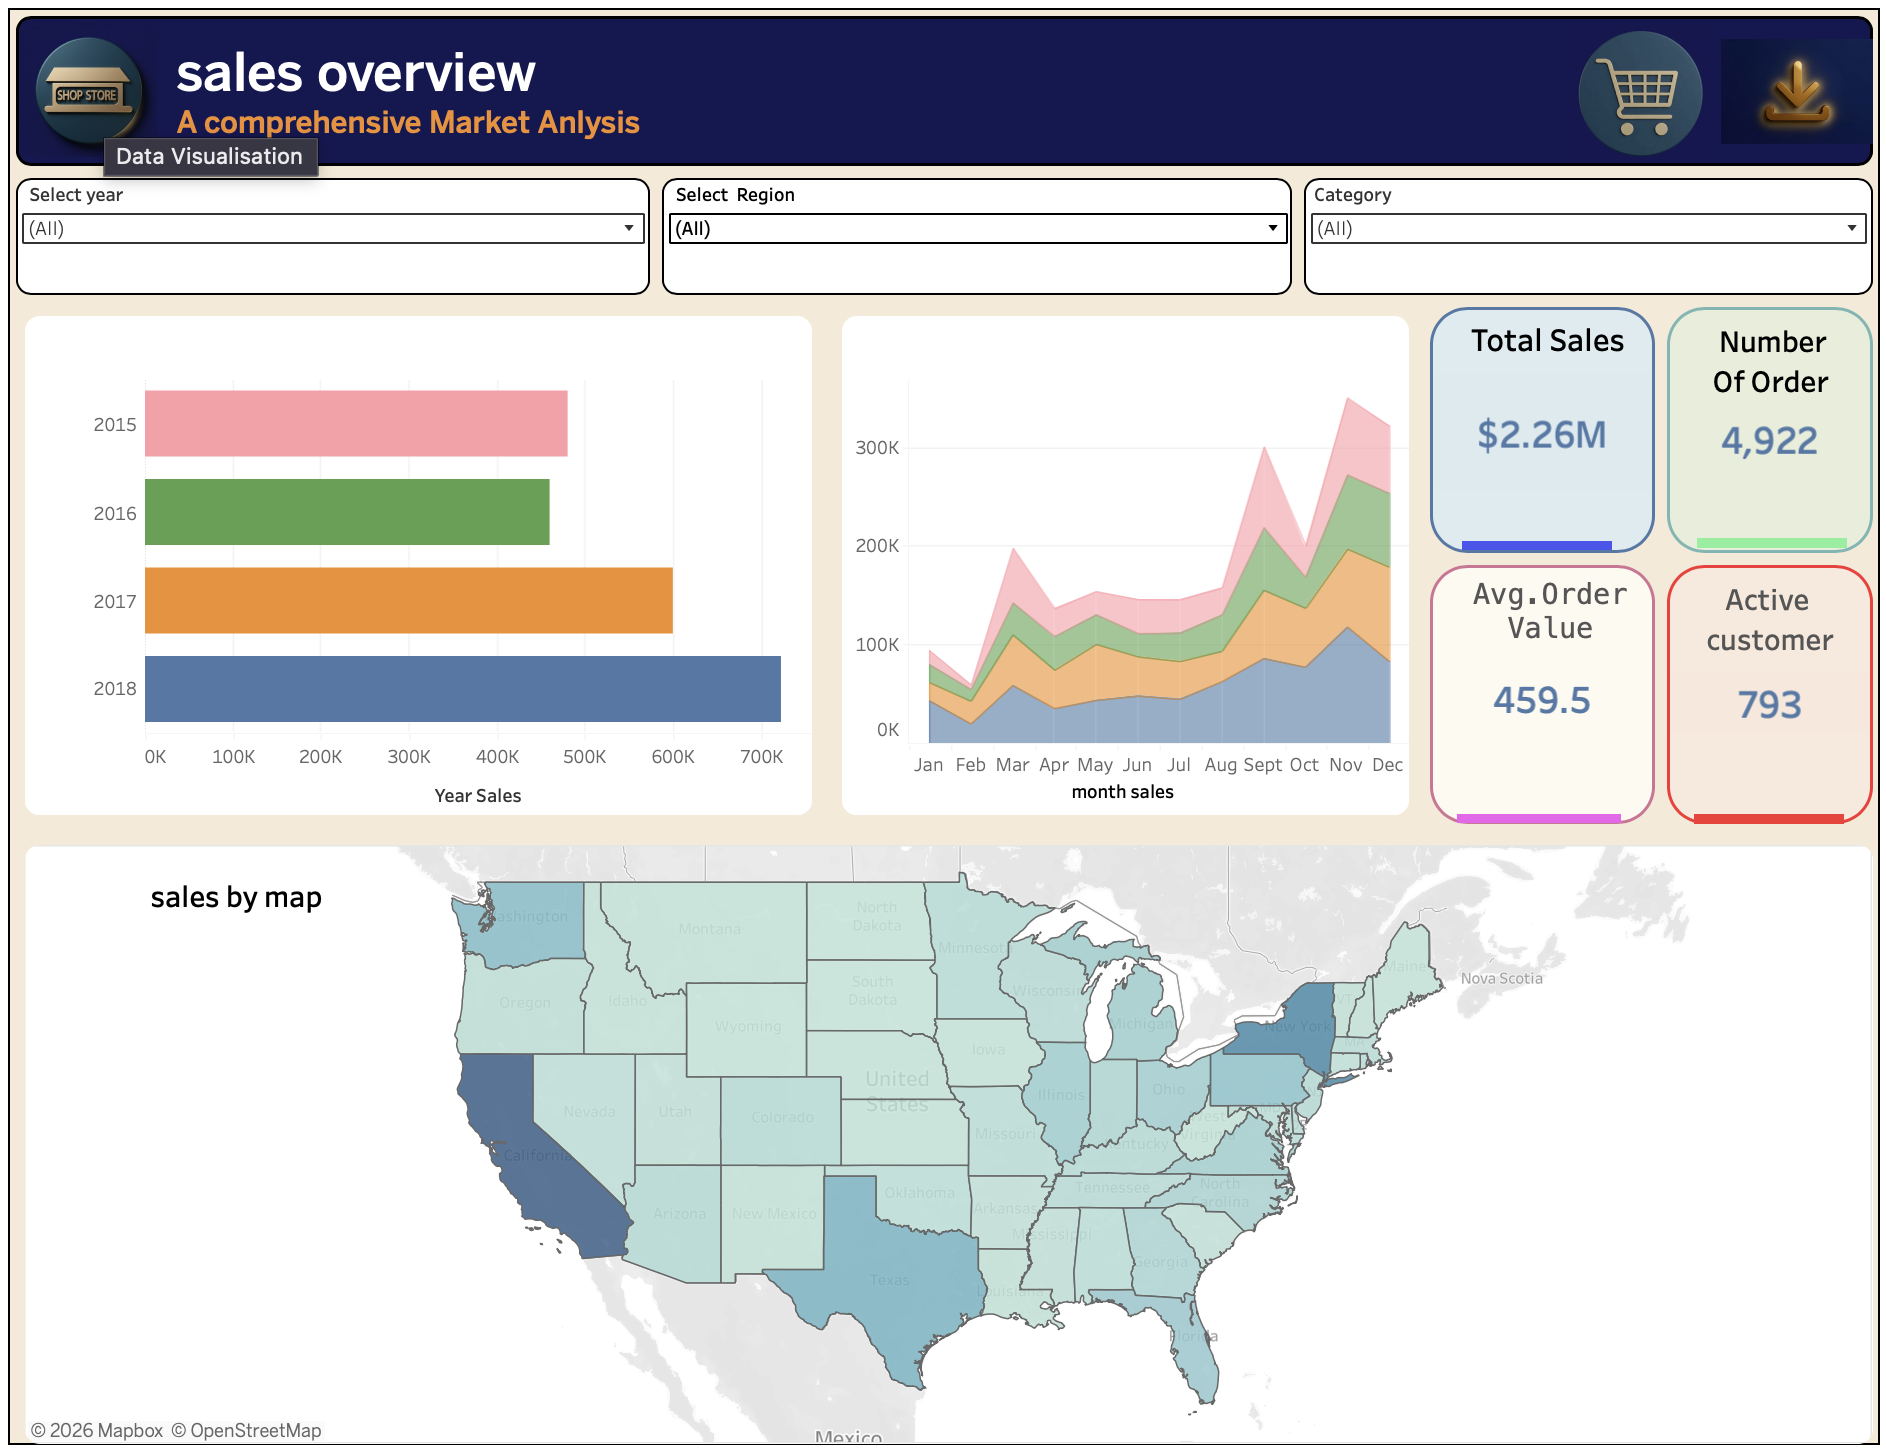

This screenshot's page, from the dashboard's own definition file:
{"tool":"tableau","page":{"name":"Sales Overview","canvas":[1000,1000],"units":"permille","ordinal":2},"visuals":[{"type":"text","box":[1.6,2.1,996.8,112.5]},{"type":"image","param":"Image/Gemini_Generated_Image_qrgtz0qrgtz0qrgt 2.jpg","box":[8.1,10.4,143,93.8]},{"type":"image","param":"Image/Gemini_Generated_Image_bh4cr5bh4cr5bh4c.jpg","box":[830.1,12.5,83.7,95.8]},{"type":"filter","title":"month sales","param":"[federated.0tc4t8h0byqgj4115zl2k156vgq5].[yr:Order Date:ok]","box":[1.6,114.6,345,89.3]},{"type":"filter","title":"sales map","param":"[federated.0tc4t8h0byqgj4115zl2k156vgq5].[none:Region:nk]","box":[346.6,114.6,342,89.3]},{"type":"filter","title":"year sales","param":"[federated.0tc4t8h0byqgj4115zl2k156vgq5].[none:Category:nk]","box":[688.6,114.6,309.8,89.3]},{"type":"image","param":"Image/Screenshot 2026-10-14 at 1.11.27 AM.png","box":[54.5,121.3,17.4,18.6]},{"type":"image","param":"Image/Screenshot 2026-10-14 at 1.11.44 AM.png","box":[408.1,122.5,12.6,17.3]},{"type":"image","param":"Image/Screenshot 2026-10-14 at 1.11.34 AM.png","box":[734,123.8,13.4,18.6]},{"type":"worksheet","title":"year sales","mark":"Bar","rows":["Order Date"],"cols":["Sales"],"box":[1.6,204,436,368.4]},{"type":"worksheet","title":"month sales","mark":"Area","rows":["Sales"],"cols":["Order Date"],"box":[437.6,204,318.4,368.4]},{"type":"worksheet","title":"total sales","mark":"Automatic","box":[756,204,126.4,179.2]},{"type":"worksheet","title":"number of order","mark":"Automatic","box":[882.4,204,116,179.2]},{"type":"blank","box":[901.5,368.8,80.5,7.3]},{"type":"blank","box":[775.9,370.8,80.5,6.2]},{"type":"worksheet","title":"Average Order Value","mark":"Automatic","box":[756,383.2,126.4,189.2]},{"type":"worksheet","title":"Active customers","mark":"Automatic","box":[882.4,383.2,116,189.2]},{"type":"text","box":[567.9,528.1,80.8,31.2]},{"type":"blank","box":[773.4,560.4,87,6.2]},{"type":"blank","box":[899.8,560.4,80.5,7.3]},{"type":"worksheet","title":"sales map","mark":"Automatic","box":[1.6,572.4,996.8,425.5]},{"type":"text","box":[77.2,595.8,192.9,41.7]}]}

Visuals, with their boxes on the dashboard's canvas, which has no fixed pixel size, in thousandths of its width and height (x1, y1, x2, y2). These are canvas units, not pixel positions in the 1886x1452 screenshot, which may show the page scaled, cropped or inside an application window:
text: left=2, top=2, right=998, bottom=115
image: left=8, top=10, right=151, bottom=104
image: left=830, top=12, right=914, bottom=108
"month sales" filter: left=2, top=115, right=347, bottom=204
"sales map" filter: left=347, top=115, right=689, bottom=204
"year sales" filter: left=689, top=115, right=998, bottom=204
image: left=54, top=121, right=72, bottom=140
image: left=408, top=122, right=421, bottom=140
image: left=734, top=124, right=747, bottom=142
"year sales" worksheet (Bar marks): left=2, top=204, right=438, bottom=572
"month sales" worksheet (Area marks): left=438, top=204, right=756, bottom=572
"total sales" worksheet: left=756, top=204, right=882, bottom=383
"number of order" worksheet: left=882, top=204, right=998, bottom=383
blank: left=902, top=369, right=982, bottom=376
blank: left=776, top=371, right=856, bottom=377
"Average Order Value" worksheet: left=756, top=383, right=882, bottom=572
"Active customers" worksheet: left=882, top=383, right=998, bottom=572
text: left=568, top=528, right=649, bottom=559
blank: left=773, top=560, right=860, bottom=567
blank: left=900, top=560, right=980, bottom=568
"sales map" worksheet: left=2, top=572, right=998, bottom=998
text: left=77, top=596, right=270, bottom=638
